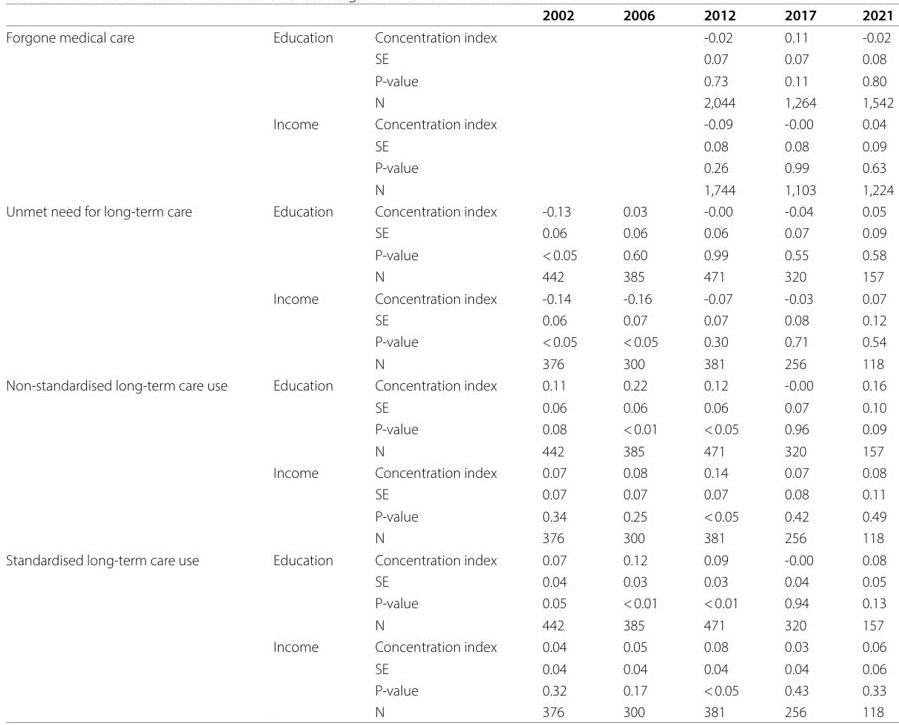table: (5, 5, 893, 720)
table column: (5, 5, 249, 720), (353, 5, 519, 720), (249, 5, 353, 720), (599, 5, 680, 720), (680, 5, 761, 720), (519, 5, 599, 720), (761, 5, 838, 720), (838, 5, 893, 720)
table column header: (5, 5, 893, 25)
table row: (5, 25, 893, 47), (5, 47, 893, 69), (5, 90, 893, 112), (5, 112, 893, 134), (5, 134, 893, 156), (5, 156, 893, 178), (5, 199, 893, 221), (5, 221, 893, 243), (5, 243, 893, 265), (5, 286, 893, 308), (5, 308, 893, 330), (5, 330, 893, 352), (5, 352, 893, 374), (5, 395, 893, 417), (5, 417, 893, 439), (5, 439, 893, 461), (5, 482, 893, 504), (5, 504, 893, 526), (5, 526, 893, 548), (5, 569, 893, 591), (5, 591, 893, 613), (5, 613, 893, 635), (5, 635, 893, 657), (5, 678, 893, 700), (5, 69, 893, 90), (5, 178, 893, 199), (5, 265, 893, 286), (5, 374, 893, 395), (5, 461, 893, 482), (5, 548, 893, 569), (5, 657, 893, 678), (5, 5, 893, 25), (5, 700, 893, 720)
table spanning cell: (5, 199, 249, 374), (5, 25, 249, 199), (5, 374, 249, 548), (5, 548, 249, 720)
